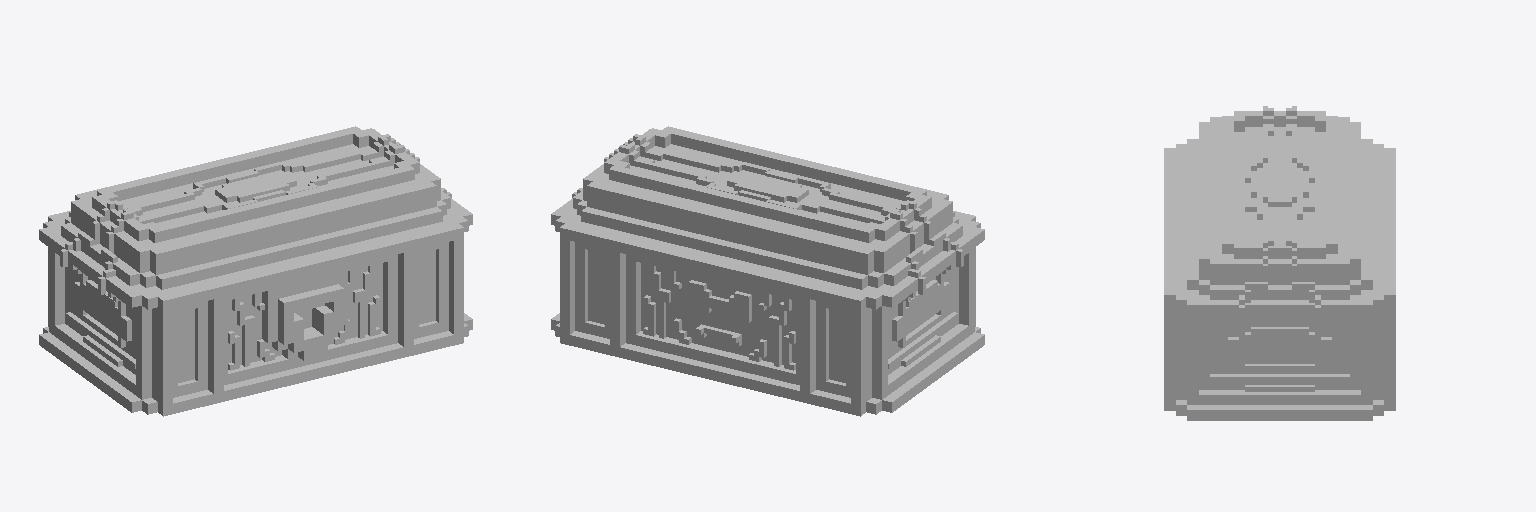
File: chest.obj
3 views of the same model, side by side, from view 1: azimuth 30°, elevation 25°; view 2: azimuth 150°, elevation 25°; view 3: azimuth 270°, elevation 25° (orthographic).
Visible parts, largest first — view 1: object 1; view 2: object 1; view 3: object 1.
Part boxes in pixels (x1,y1,x2,y2): object 1: (39,126,472,416); object 1: (551,126,984,416); object 1: (1164,106,1395,420).
Size of the model in its own units: 7 by 3.1 by 4.